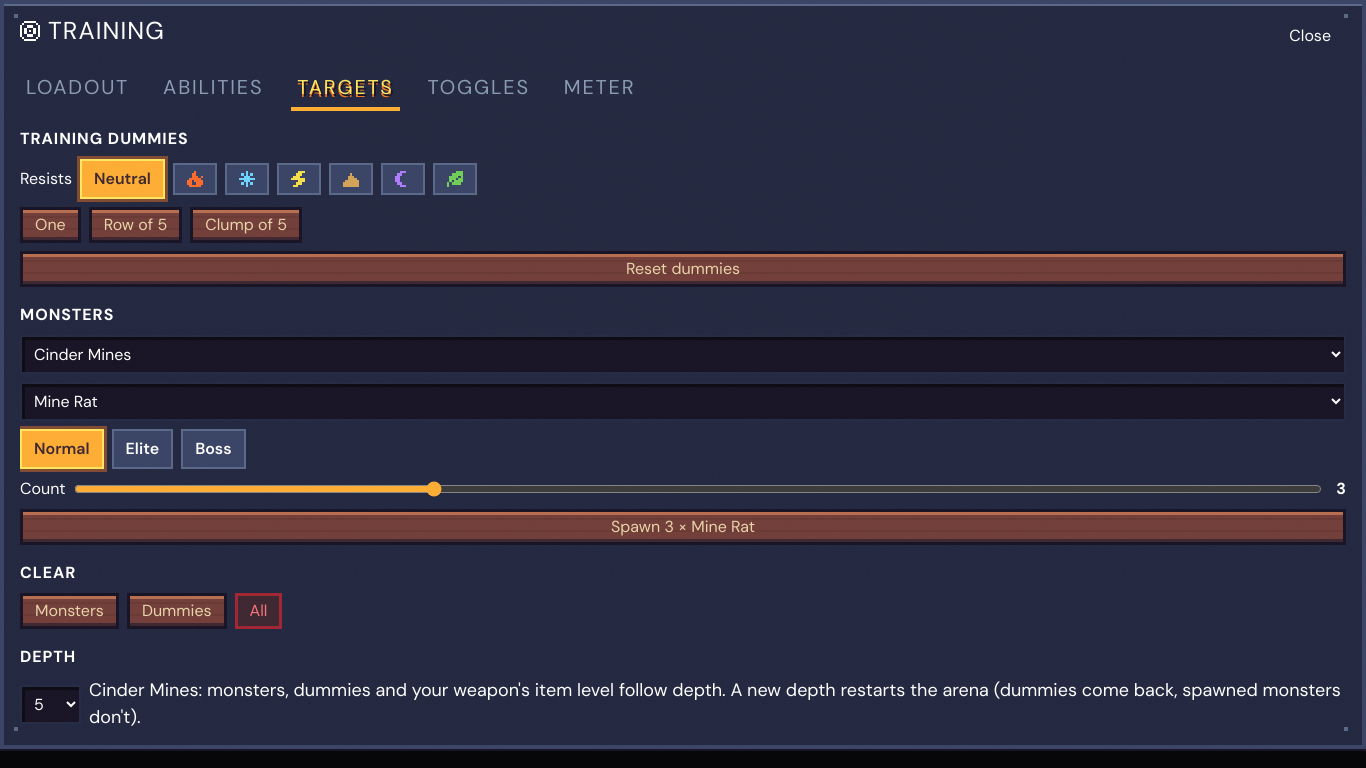
it: TrainingPanel › adds dummies through the arena, and stops at the cap
Click the button with test id "add-dummy-row" at (136, 225), box [89, 207, 182, 243]
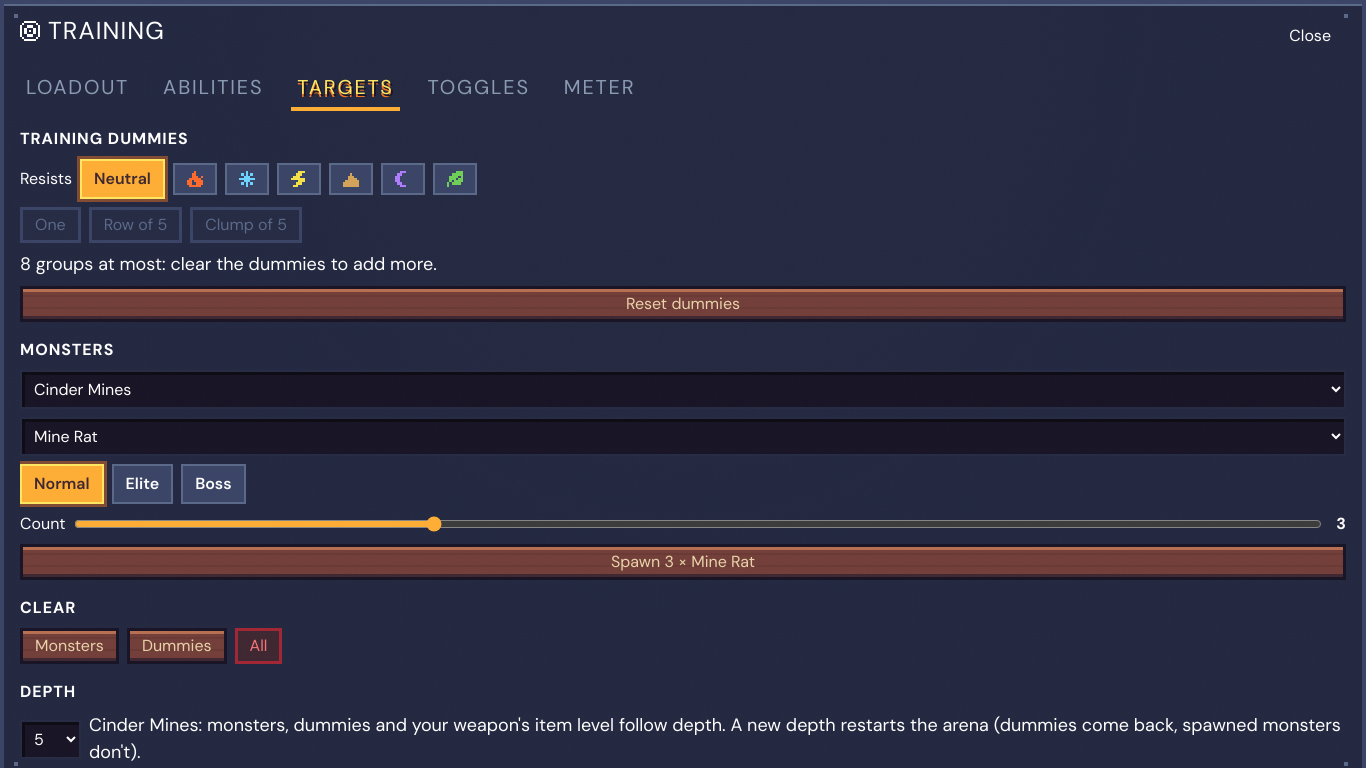
Result: the button with test id "add-dummy-single" is disabled at [20, 207, 81, 243]
Result: the text "8 groups at most: clear the dummies to add more." is shown at [20, 252, 437, 276]
